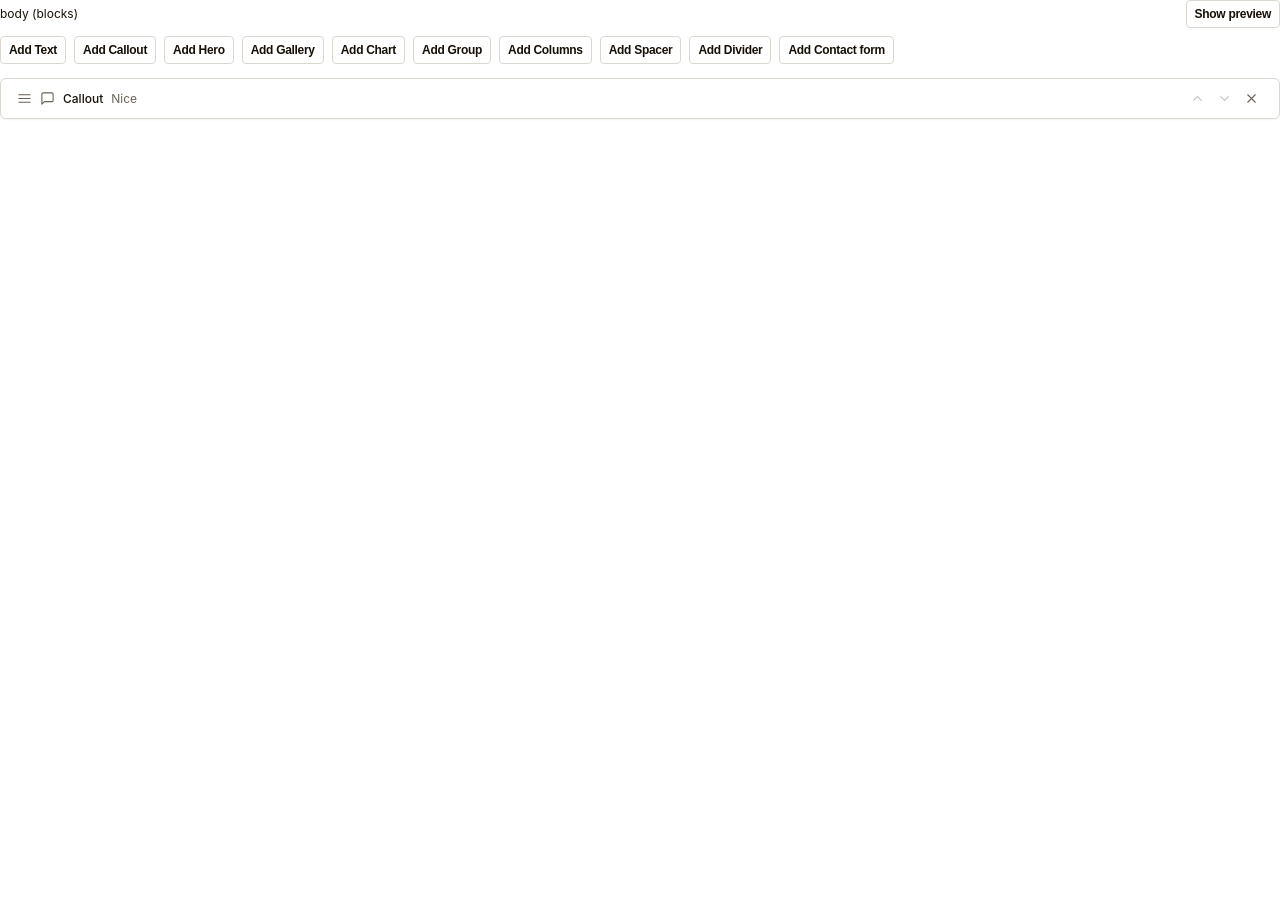
BlocksFieldEditor › toggles a live preview rendered through BlocksRenderer
Click the button "Show preview".
click(1233, 14)  # box [1186,0,1279,28]
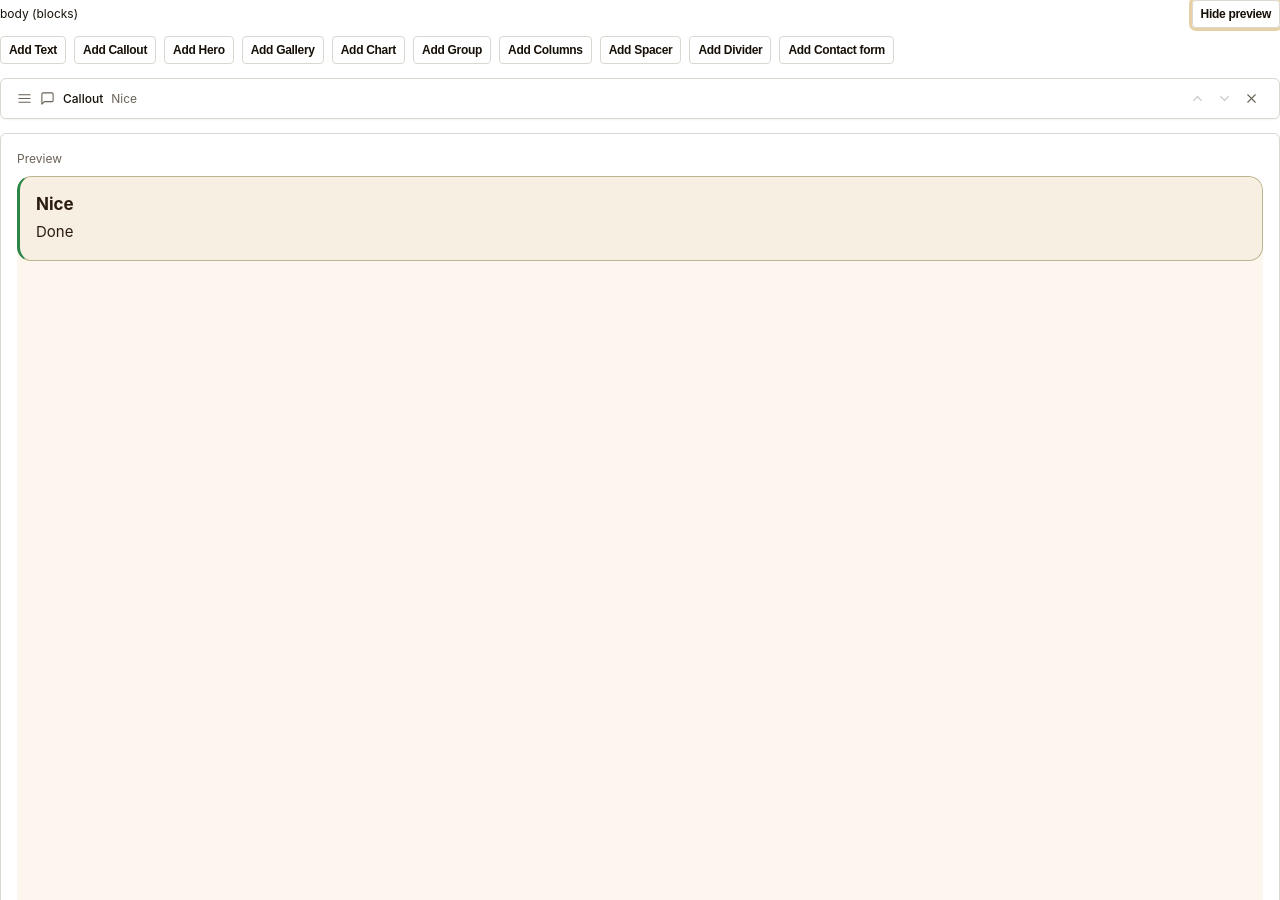
Result: the element with class "blocks" is shown at [17,176,1263,261]
Click the button "Hide preview".
click(1236, 14)  # box [1192,0,1279,28]
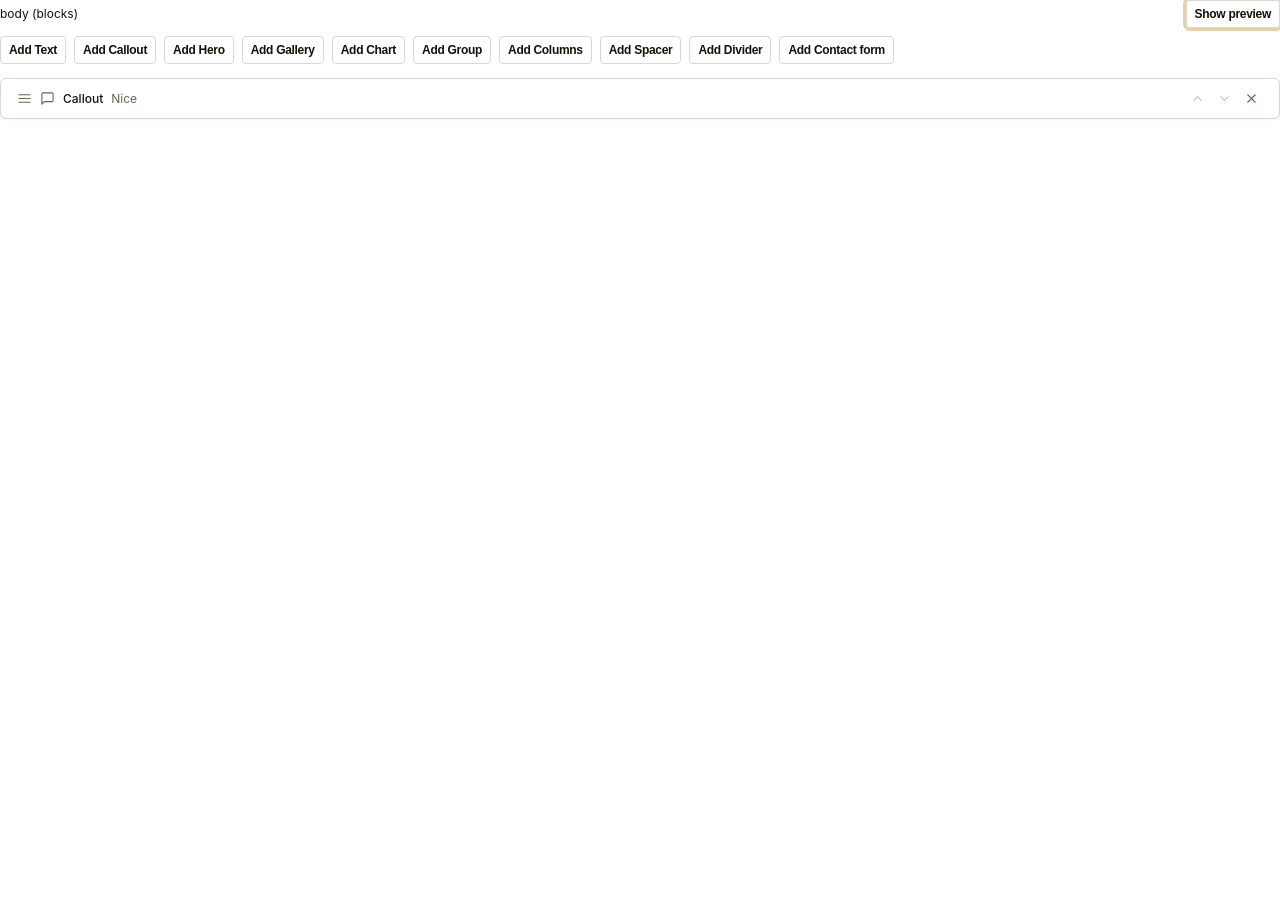
Result: the element with class "blocks" is gone
